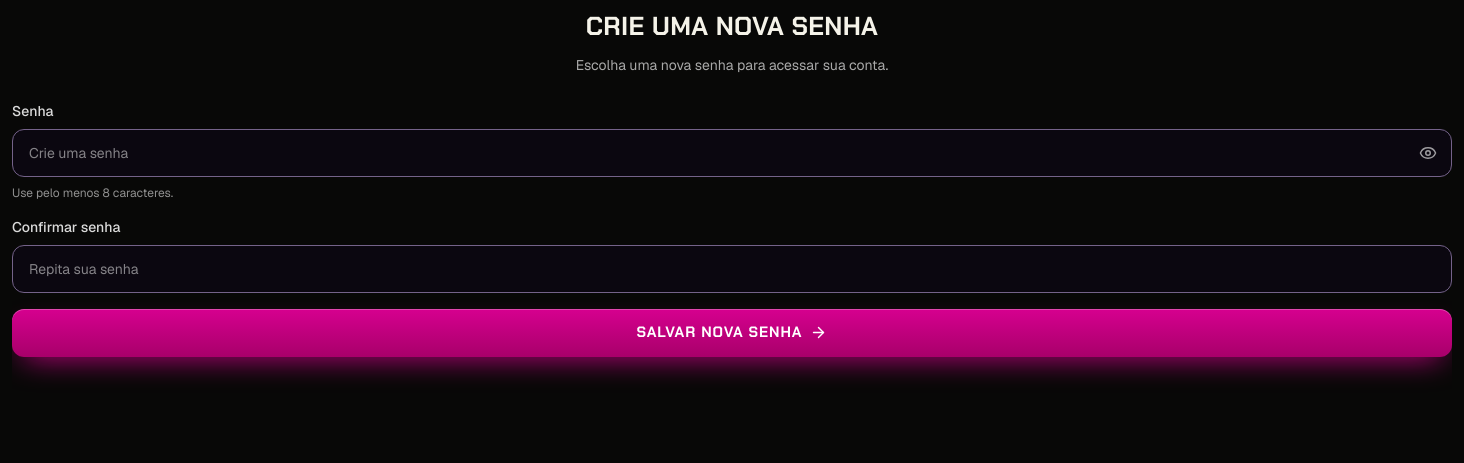
acesso do cliente por Google, Discord e email › oferece nova senha e confirmação após o link de recuperação sem pedir email novamente
This screenshot has width=1464, height=463.
Check: the heading "Crie uma nova senha" is shown, box [586,9,878,43]
Check: the field labelled "Email" is not shown
Type "NovaSenha123!" into the password field labelled "Senha".
click(732, 153); type("NovaSenha123!")  # box [12,129,1452,177]
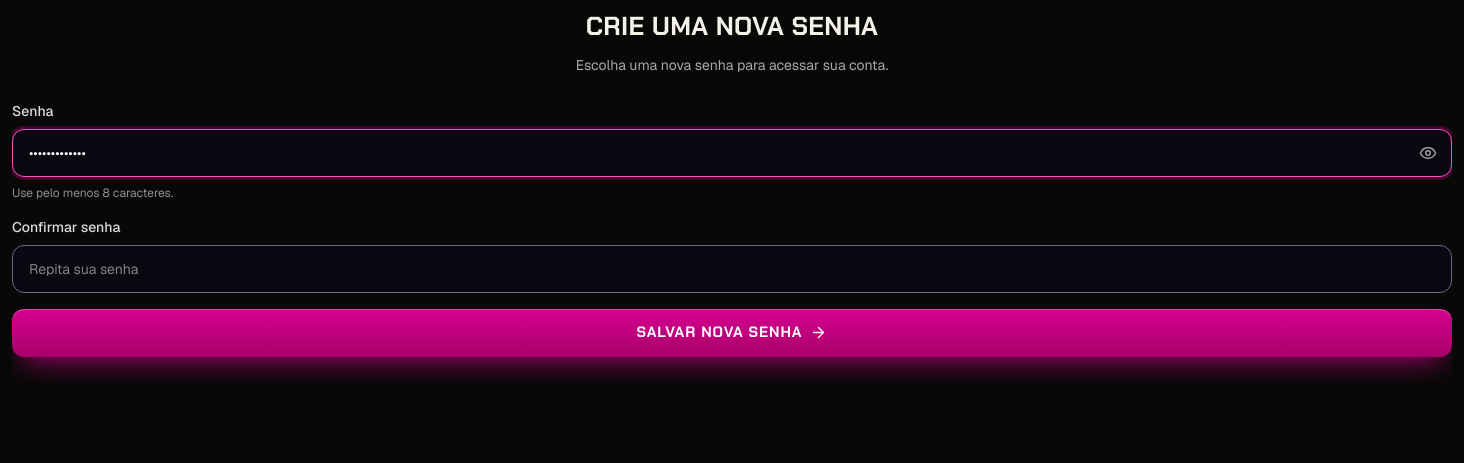
Type "NovaSenha123!" into the password field labelled "Confirmar senha".
click(732, 269); type("NovaSenha123!")  # box [12,245,1452,293]
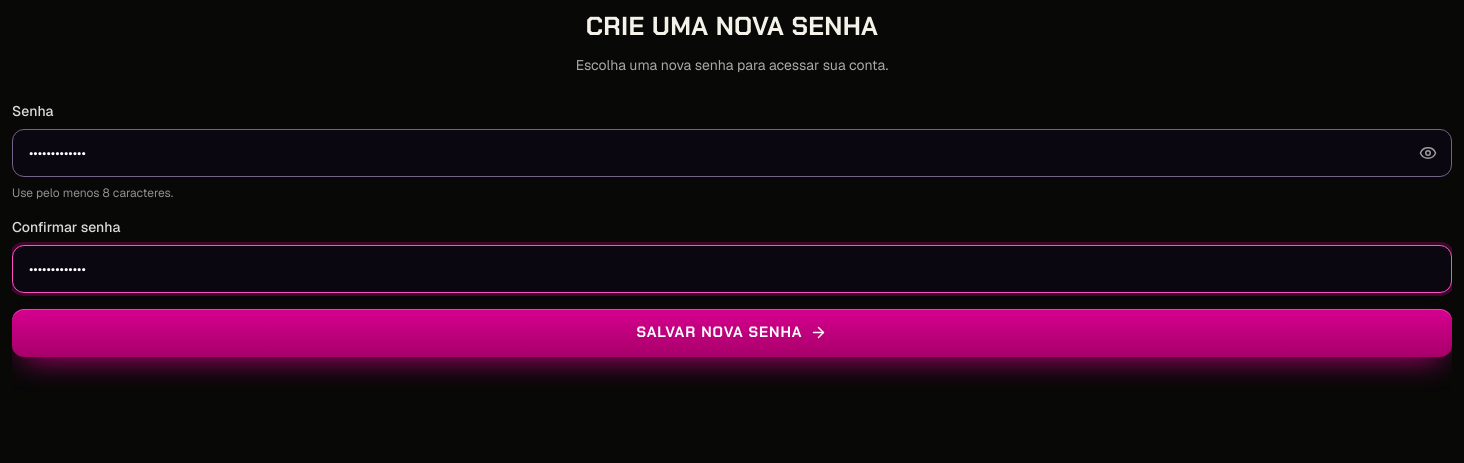
Click the button "Salvar nova senha".
click(732, 333)  # box [12,309,1452,357]
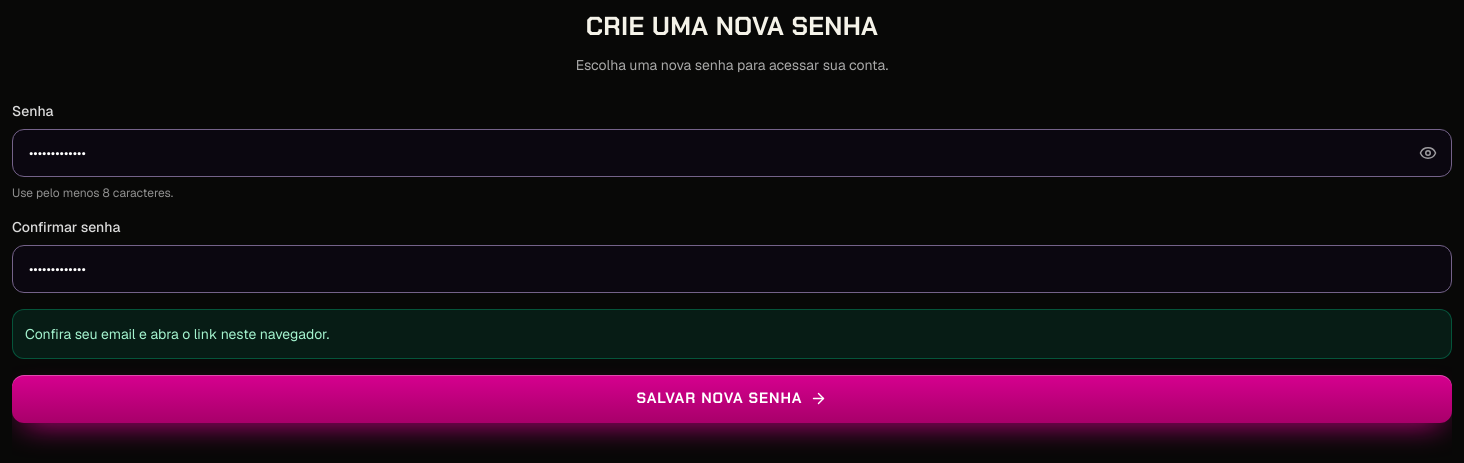
Check: the message "Confira seu email e abra o link neste navegador." is shown, box [12,309,1452,359]
